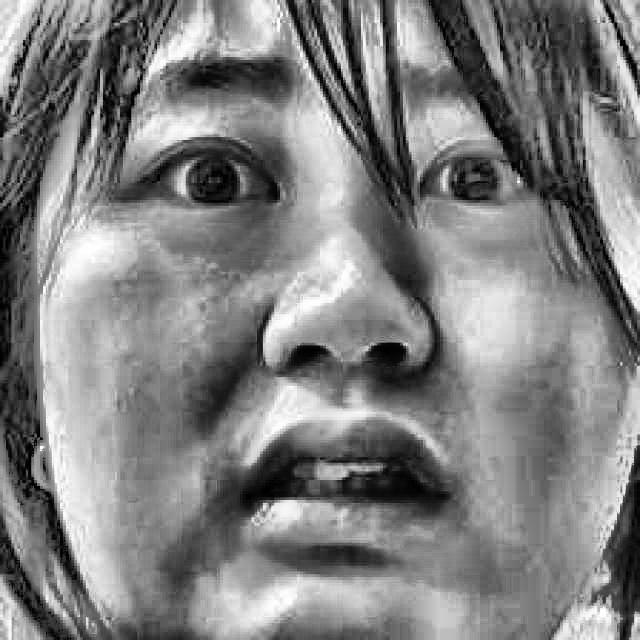fear: (67, 31, 577, 599)
